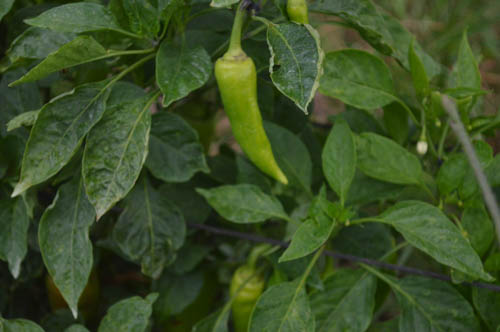ChiliPepper: (214, 58, 288, 183), (224, 270, 260, 330)
